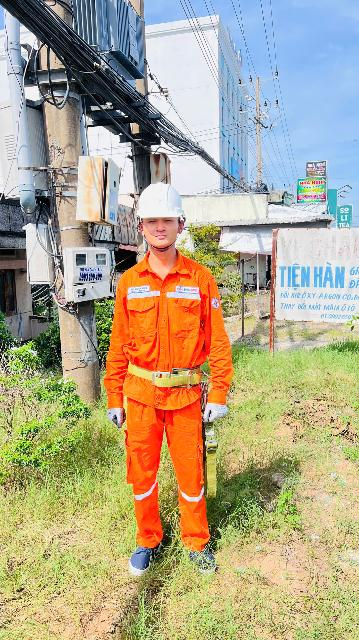gloves: (97, 403, 130, 434), (199, 402, 236, 427)
harness: (122, 350, 218, 403)
helmet: (128, 182, 195, 222)
shoes: (110, 528, 167, 577), (185, 547, 228, 577)
